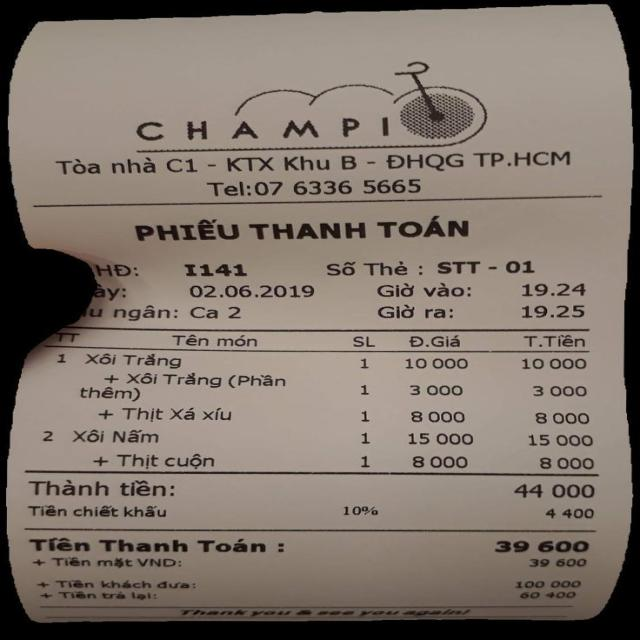Date: (186, 284, 321, 302)
Store_Name: (121, 101, 406, 143)
amount_number: (483, 535, 595, 557)
label_total: (21, 531, 270, 559)
